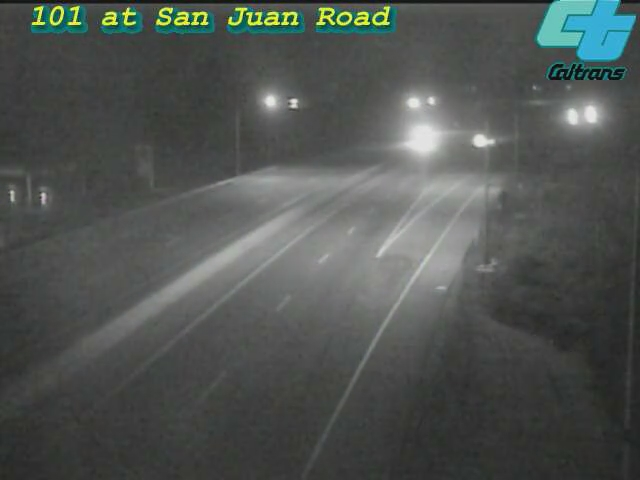vehicle: (392, 112, 442, 162), (454, 116, 504, 166), (546, 92, 596, 142), (565, 90, 615, 140)
